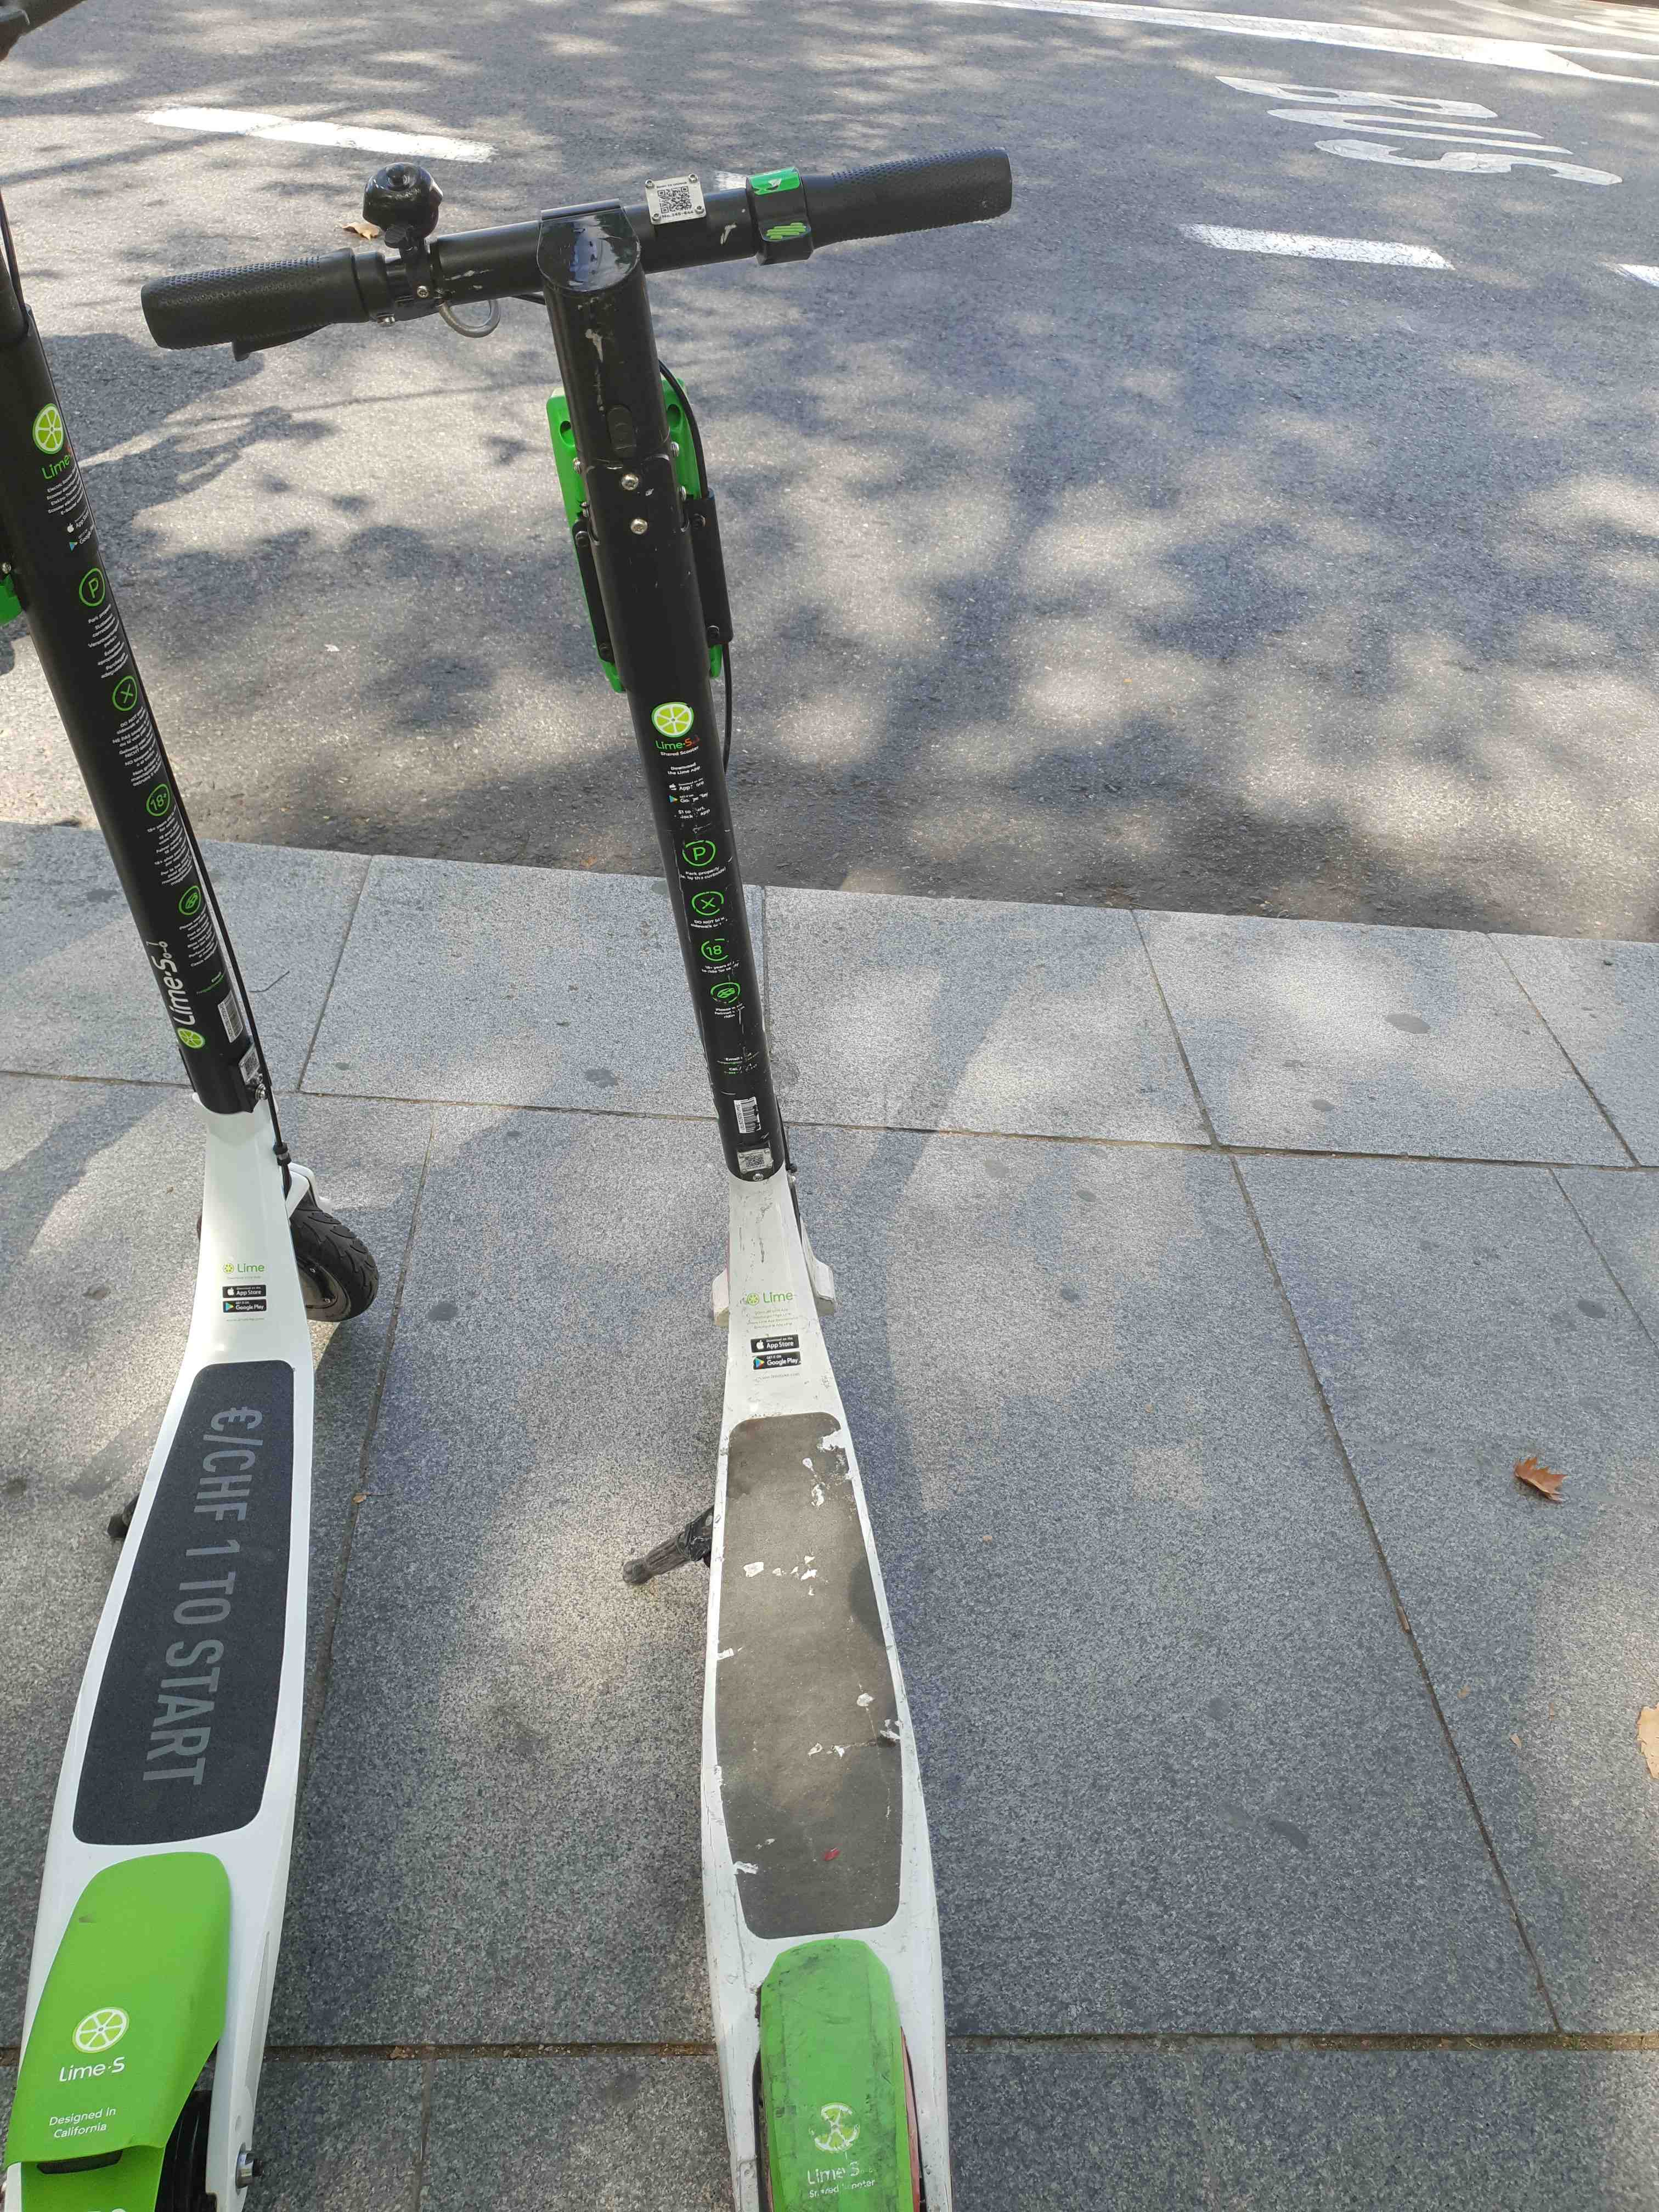scooter: (129, 134, 1072, 2212), (0, 108, 396, 2205)
